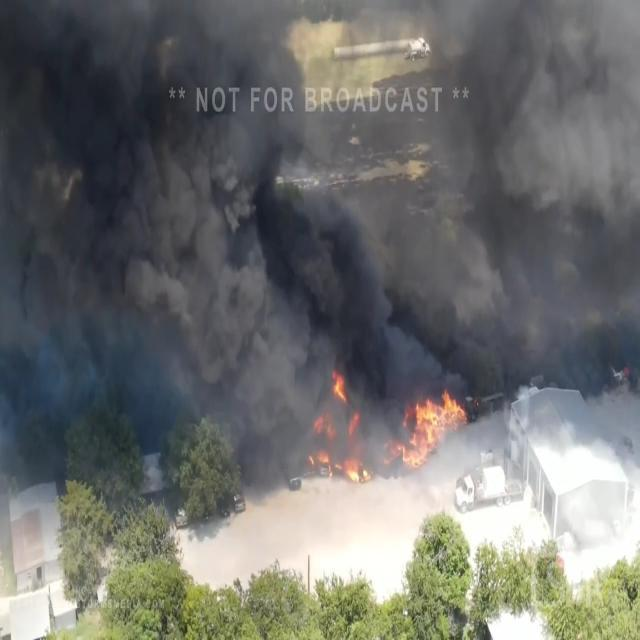Fire: (406, 391, 462, 453)
Smoke: (20, 4, 314, 444)
